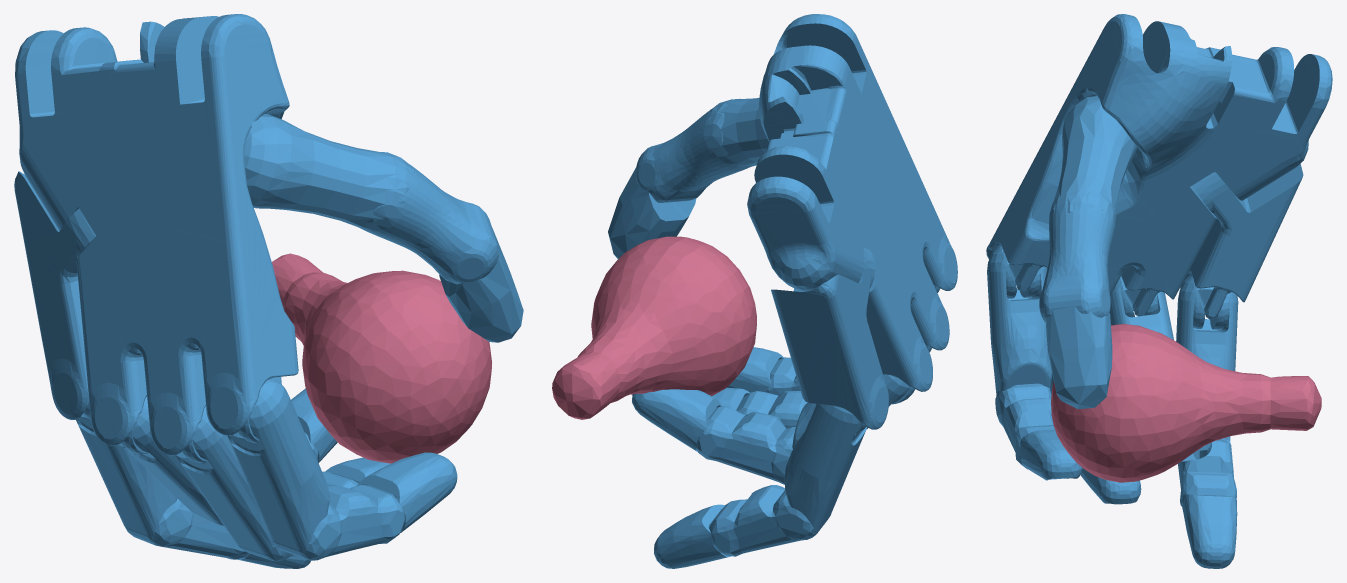
3 renders of one model, left to right at view 1: azimuth 30°, elevation 25°; view 2: azimuth 150°, elevation 25°; view 3: azimuth 270°, elevation 25°, orthographic. The views are drawn at different scales.
Parts seen in each view (by area): view 1: 1; view 2: 1; view 3: 1.
Part boxes in pixels (box(x1,y1,x2,y2)): 1: box(14, 14, 523, 568); 1: box(552, 14, 957, 568); 1: box(986, 14, 1332, 568).
Bounding box in the file's own units: 0.1217 × 0.1835 × 0.1146.
